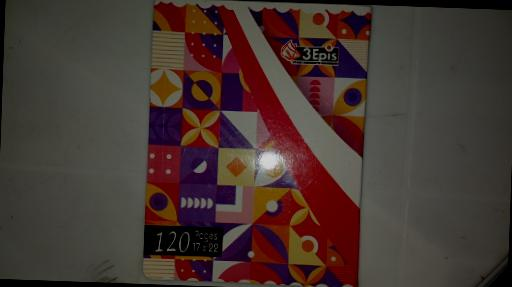notebook: (140, 0, 373, 287)
